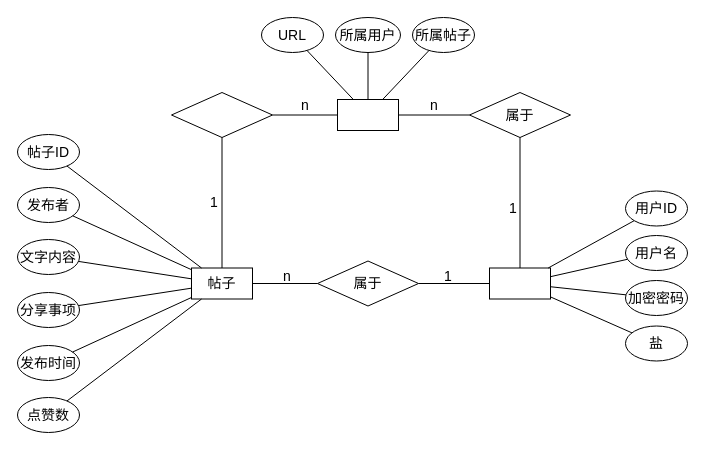
Some shapes in this 705 by 450 pixel diagram are drawn without their labels. Here are the shapes that lost their labels. From the top down, the centre of each, then its label:
At point 221,115: "引用".
At point 367,114: "图片".
At point 519,283: "用户".
